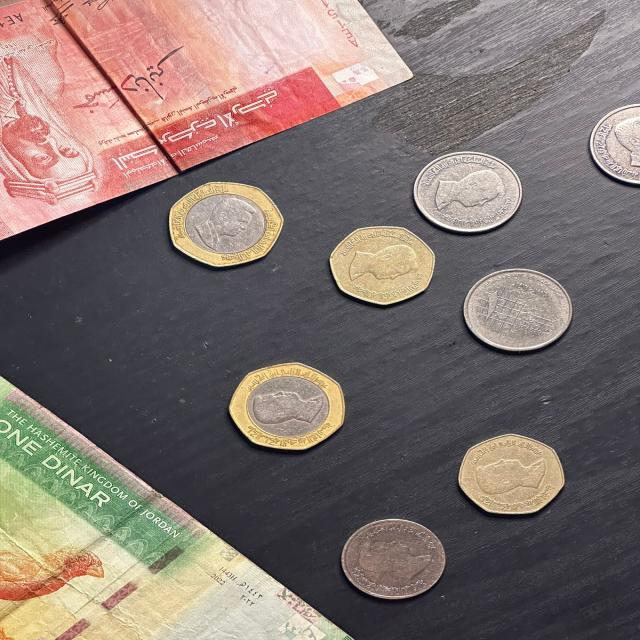1-dinar: (0, 376, 358, 640)
10-coins: (412, 149, 522, 234), (464, 268, 572, 352), (587, 103, 640, 187)
25-coins: (457, 433, 566, 517), (330, 225, 438, 306)
5-coins: (340, 518, 446, 599)
5-dinar: (0, 0, 415, 242), (246, 566, 250, 566)
50-coins: (227, 361, 344, 451), (167, 180, 286, 268)
